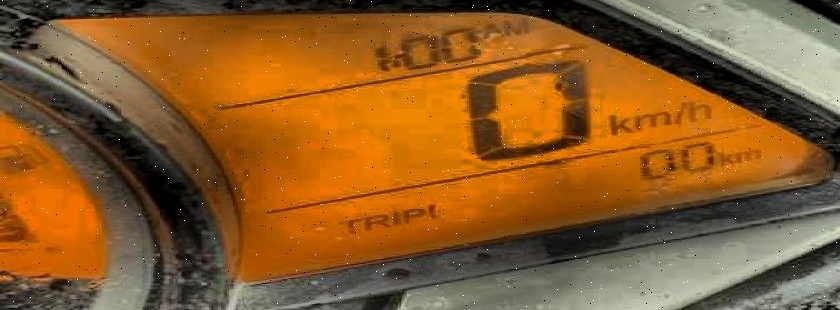0: (469, 63, 591, 159), (438, 25, 480, 61), (400, 35, 438, 69), (677, 141, 715, 172), (635, 149, 673, 179)
1: (369, 40, 387, 79), (424, 201, 437, 224)
X: (500, 16, 538, 36), (604, 111, 631, 135), (686, 97, 711, 122), (633, 110, 668, 127), (360, 211, 386, 230), (400, 204, 422, 224), (335, 215, 357, 235), (671, 97, 686, 122), (733, 149, 764, 160), (482, 21, 500, 37), (389, 46, 400, 71), (717, 150, 731, 167), (389, 208, 400, 229)
